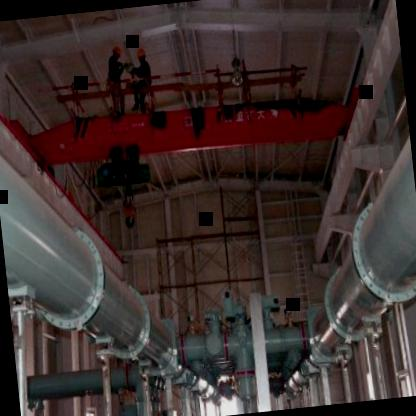helmet: (136, 45, 148, 67), (110, 42, 122, 60)
